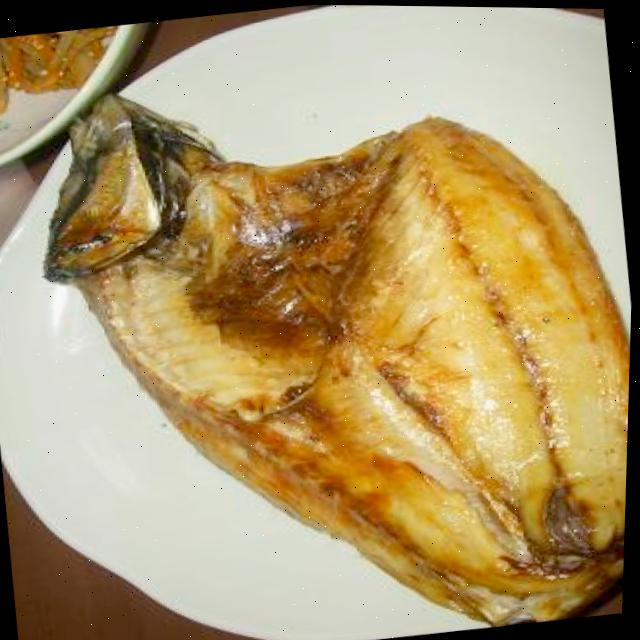熟制海鲜: (10, 24, 639, 640)
